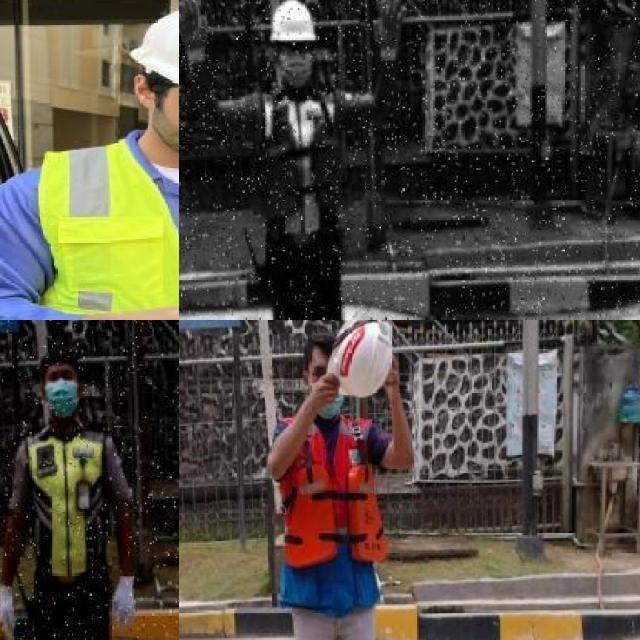apron: (371, 0, 408, 62), (179, 0, 211, 68), (110, 572, 140, 634), (0, 581, 19, 640)
